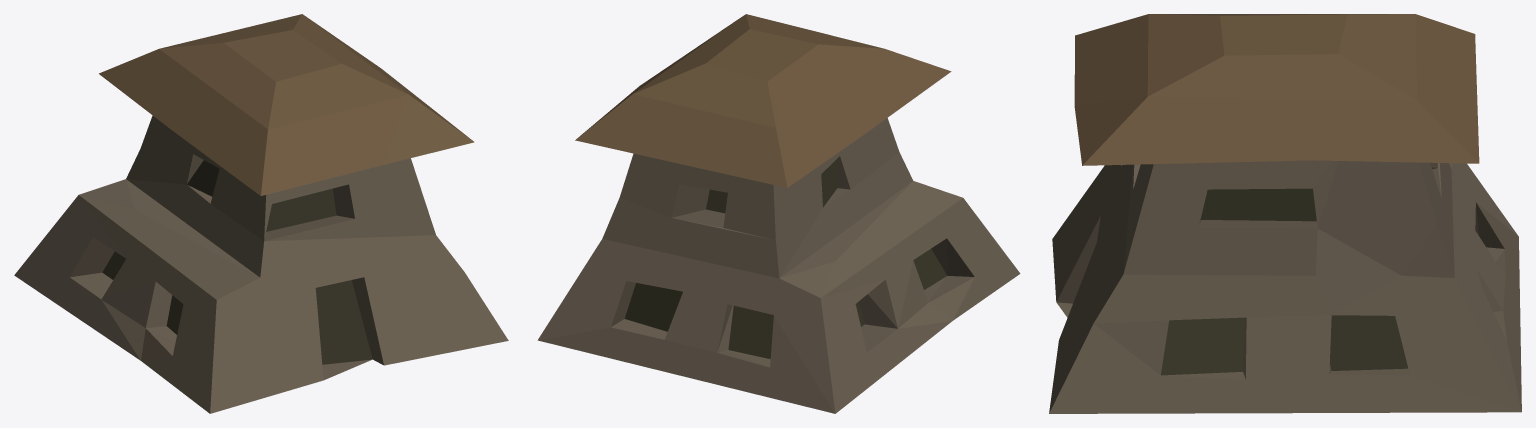
File: villagehouse2.fbx
3 renders of one model, left to right at view 1: azimuth 30°, elevation 25°; view 2: azimuth 150°, elevation 25°; view 3: azimuth 270°, elevation 25°, orthographic. The views are drawn at different scales.
Parts seen in each view (by area): view 1: Cube.003; view 2: Cube.003; view 3: Cube.003.
Boxes of the visible parts, <box> form: Cube.003: <box>14,14,508,413</box>; Cube.003: <box>537,14,1020,413</box>; Cube.003: <box>1049,14,1521,413</box>.
Bounding box in the file's own units: 402 × 323 × 447.
